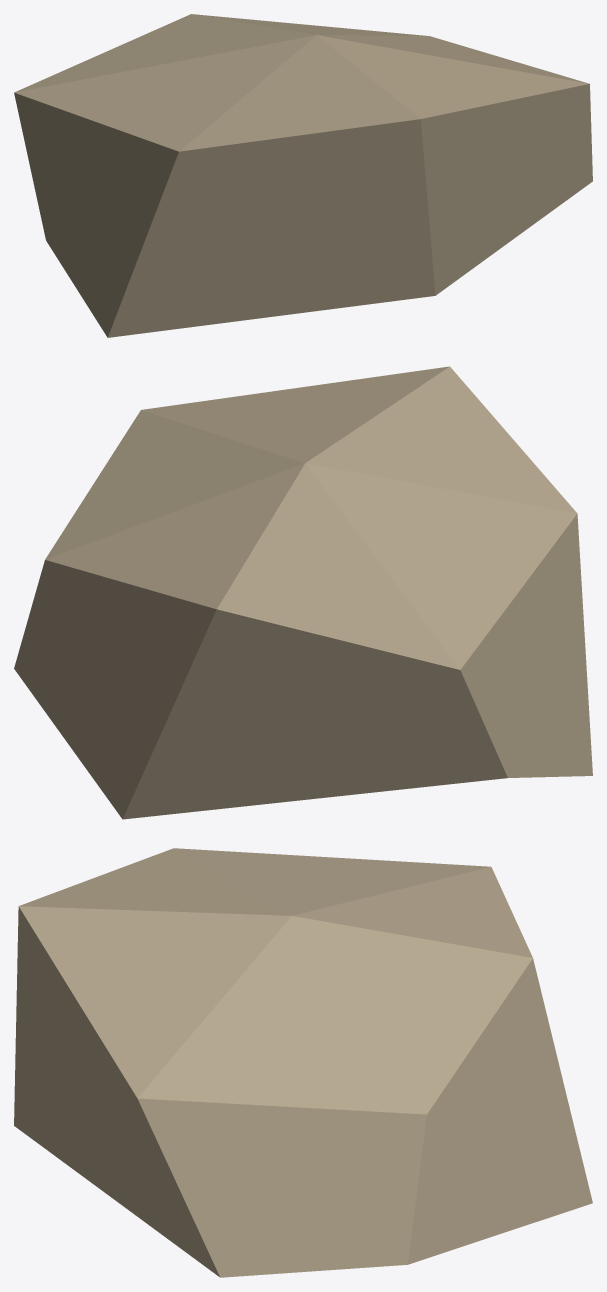
Rendered from item-slag.glb.
The picture shows the model from 3 angles, top to bottom: view 1: azimuth 30°, elevation 25°; view 2: azimuth 150°, elevation 25°; view 3: azimuth 270°, elevation 25°; orthographic projection. The views are drawn at different scales.
Visible parts, largest first — view 1: item-slag; view 2: item-slag; view 3: item-slag.
Part boxes in pixels (<box>): item-slag: <box>14,14,592,337</box>; item-slag: <box>14,366,592,819</box>; item-slag: <box>14,848,592,1277</box>.
Size of the model in its own units: 0.4104 by 0.1932 by 0.3637.
